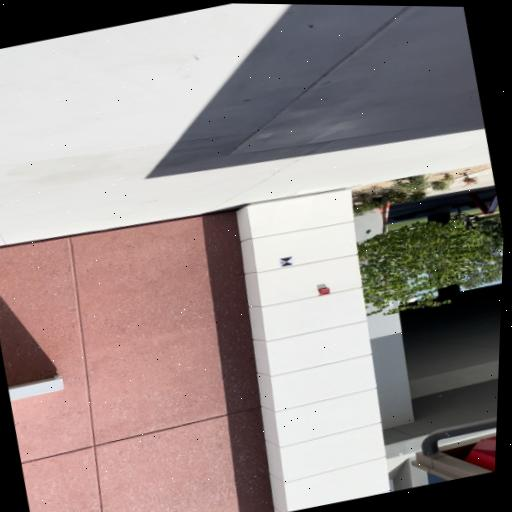target6: (279, 256, 293, 267)
